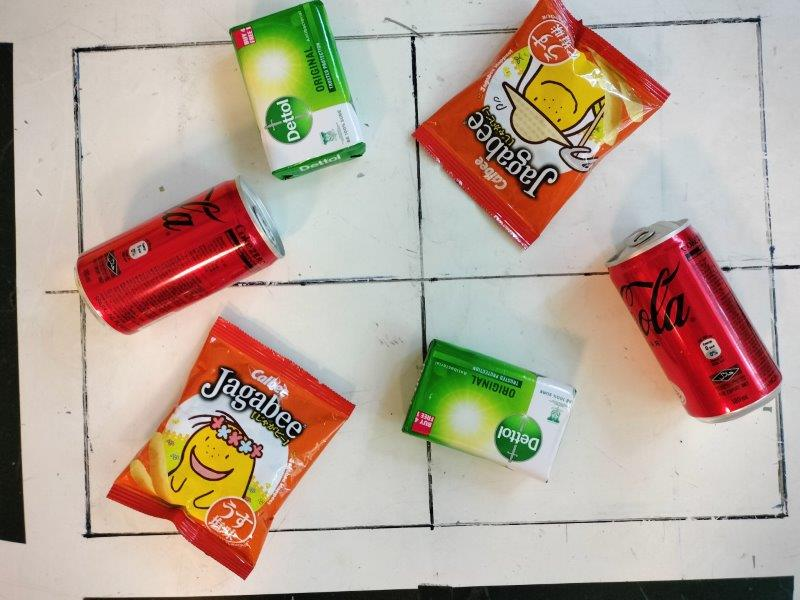Coke: (604, 217, 783, 425), (73, 174, 287, 335)
Dettol: (400, 338, 578, 483), (228, 3, 368, 183)
Jagabee: (106, 316, 357, 584), (411, 3, 669, 246)
